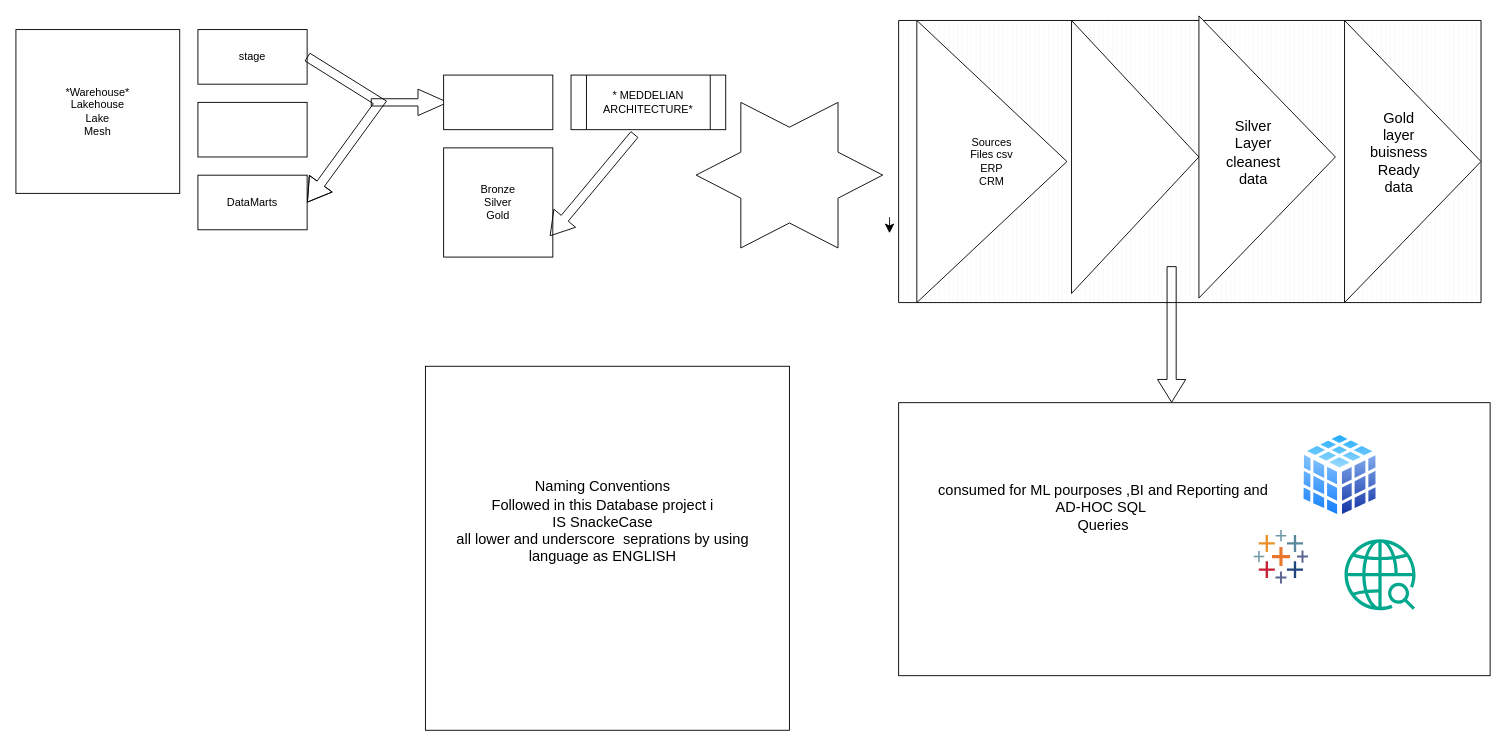
This 1506x746 diagram has some shape labels left out. Each missing label, with the centre of its shape:
"Bronze layer Raw data" belongs at point (1135, 156).
"EDW" belongs at point (252, 129).
"Follow SOC(sepration of Concerns)" belongs at point (789, 174).
"Raw and Buisness Vault" belongs at point (498, 102).
